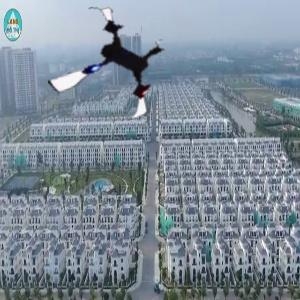drone: (47, 3, 175, 131)
